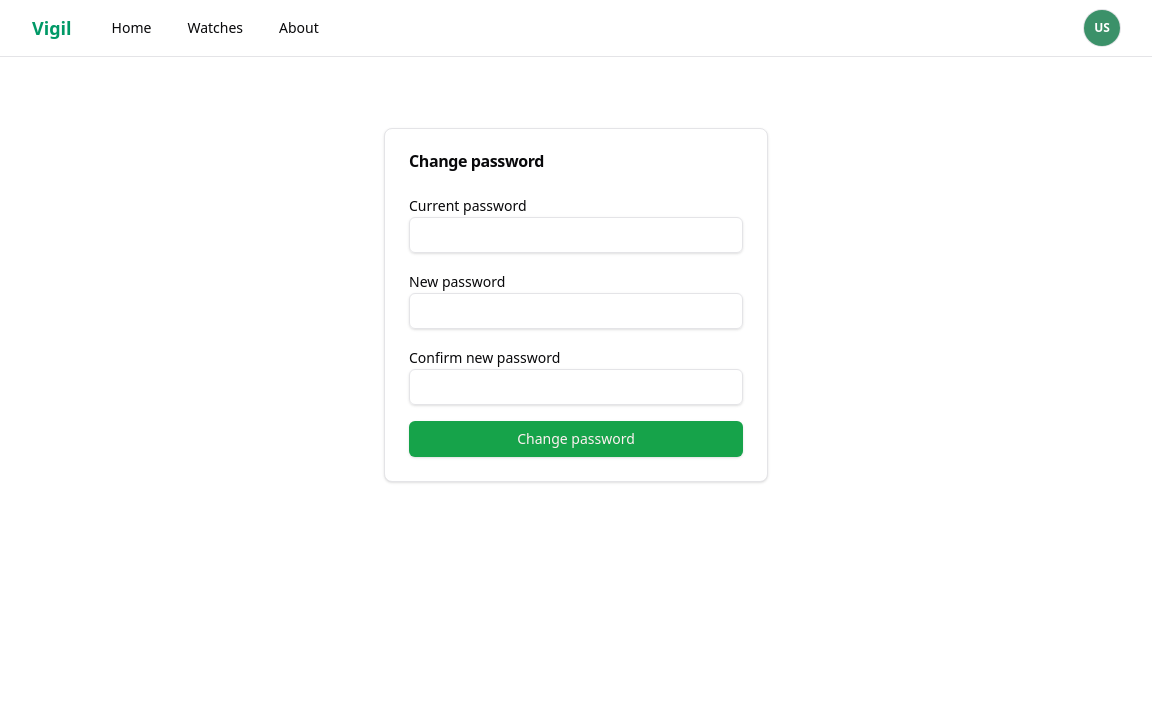
Test: Change password page › shows error when new passwords do not match
Type "OldPass1!" into the password field labelled "Current password" at point(576, 235), box [409, 217, 743, 253]
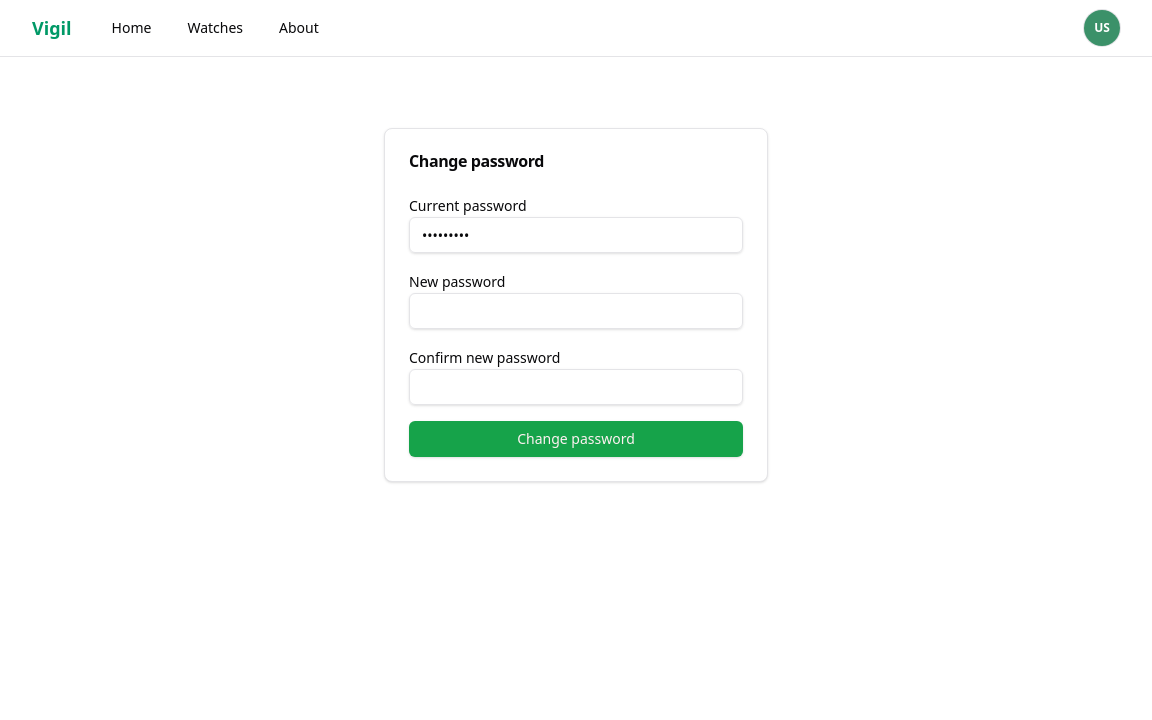
Type "NewValidPass1!" into the password field labelled "New password" at point(576, 311), box [409, 293, 743, 329]
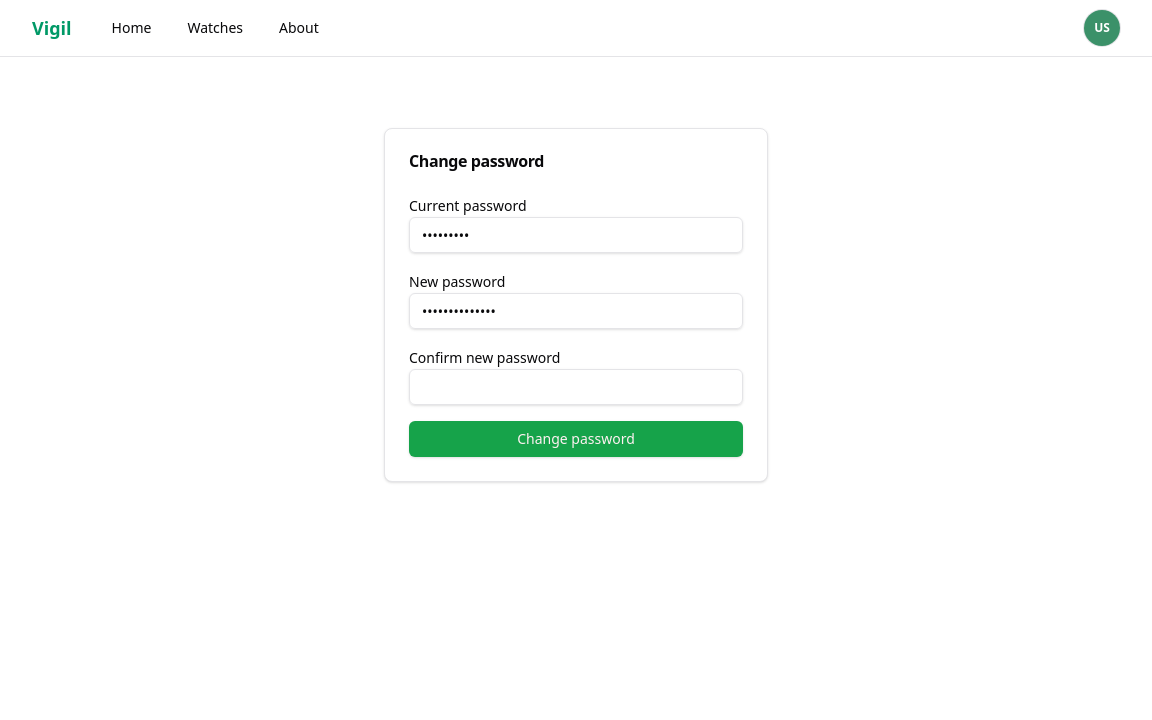
Type "DifferentPass1!" into the password field labelled "Confirm new password" at point(576, 387), box [409, 369, 743, 405]
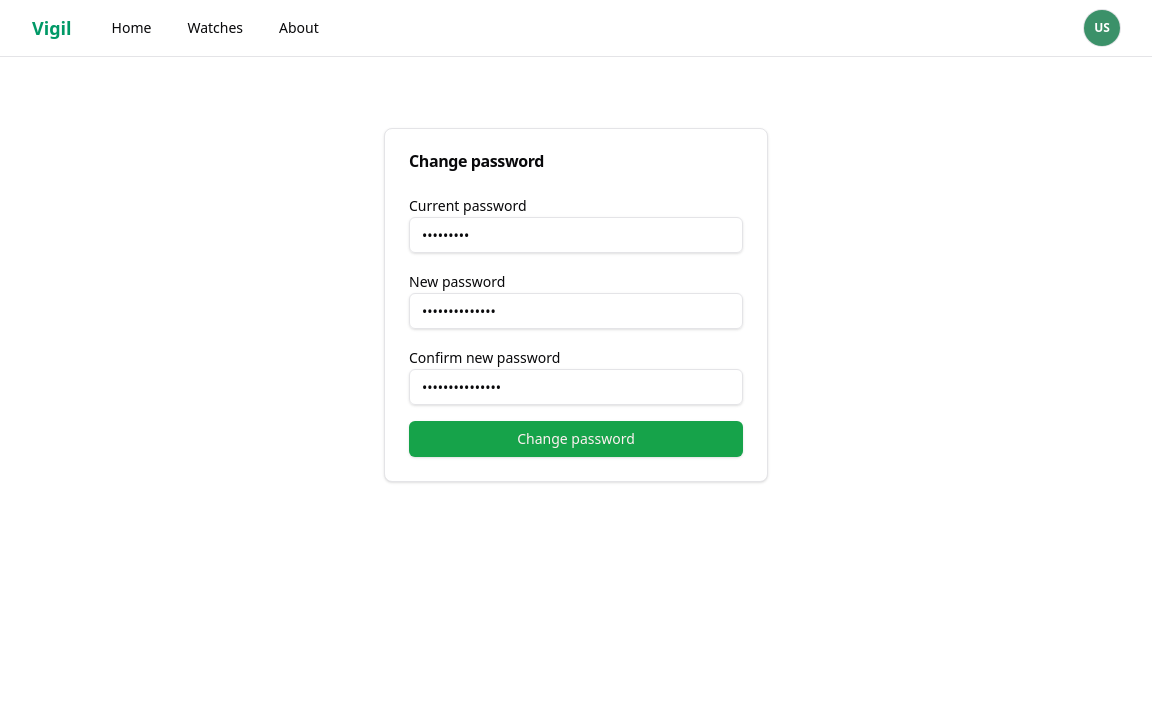
Click the button "Change password" at point(576, 439), box [409, 421, 743, 457]
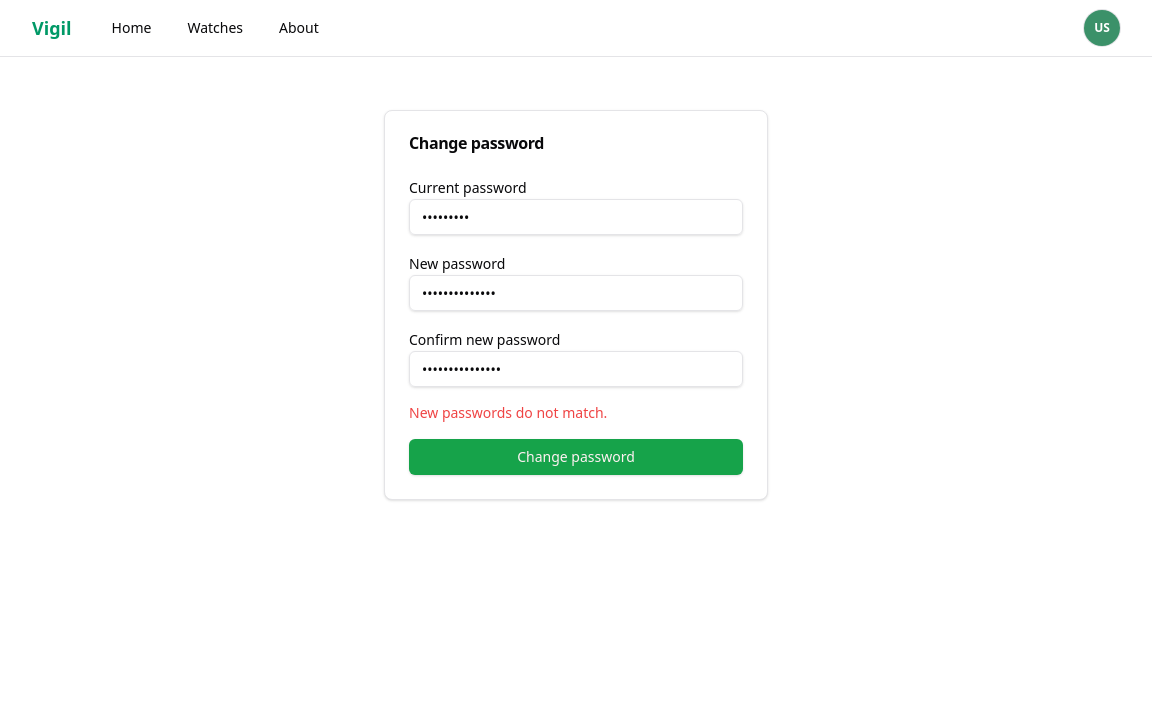
Now the message shows "do not match", box [409, 403, 607, 422]
